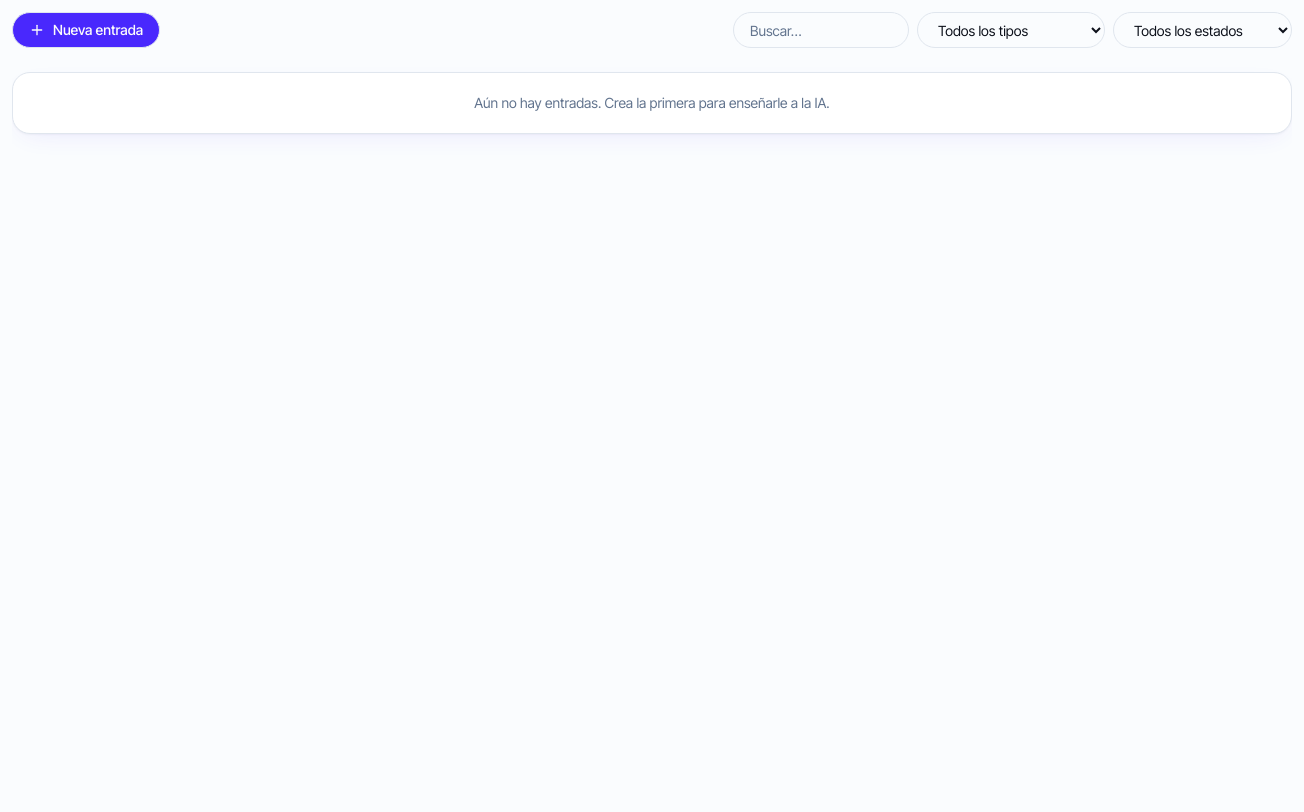
Test: ListaContexto › abre el editor al pulsar 'Nueva entrada'
The width and height of the screenshot is (1304, 812).
Click the button "Nueva entrada": (86, 30) [12,12,160,48]
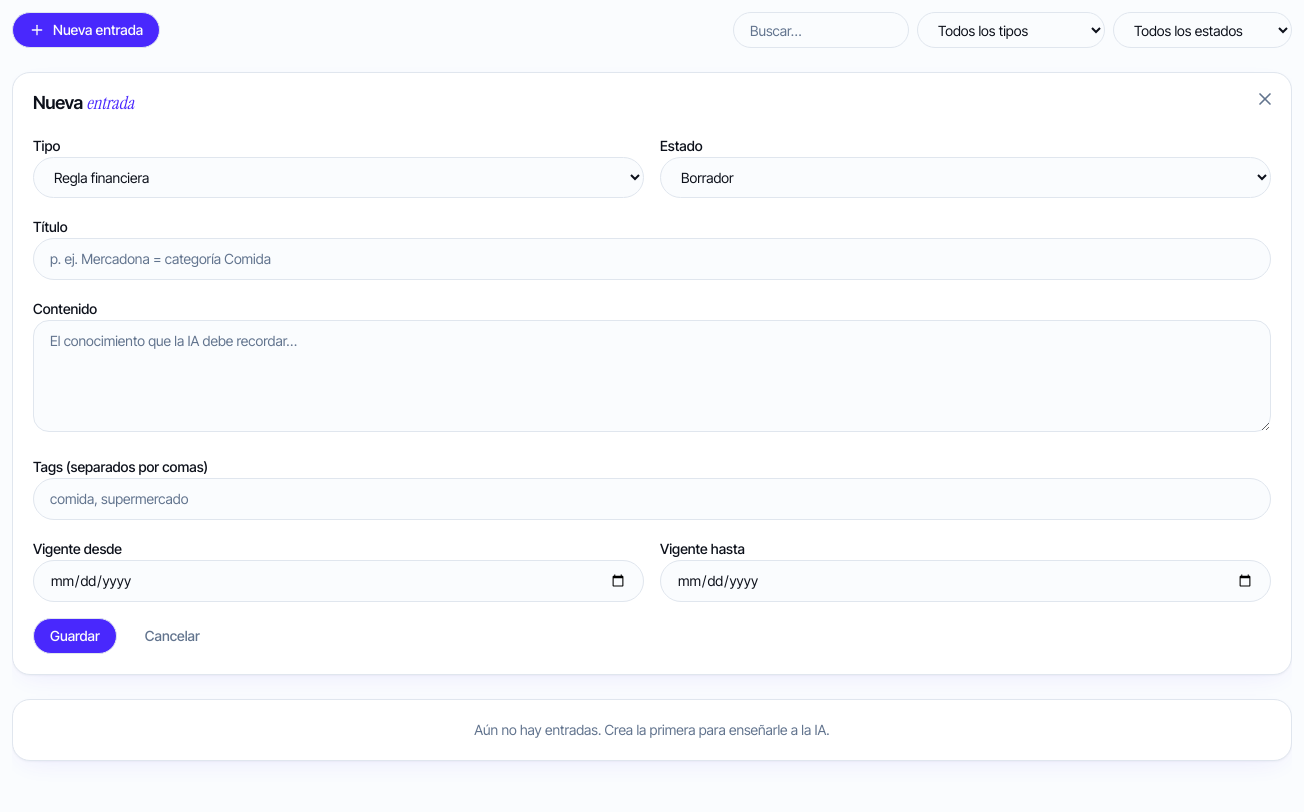
Expected: the field labelled "Título" is shown, [33,238,1271,280]
